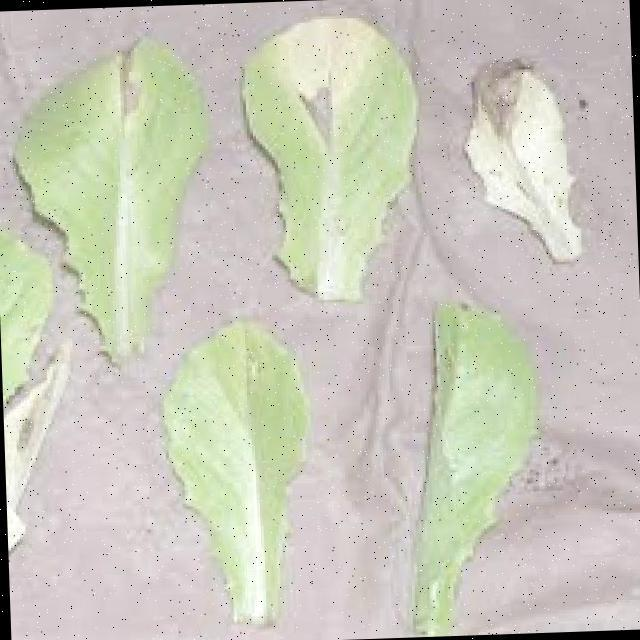Downy_mildew_on_lettuce: (474, 68, 589, 262), (281, 41, 387, 185)
